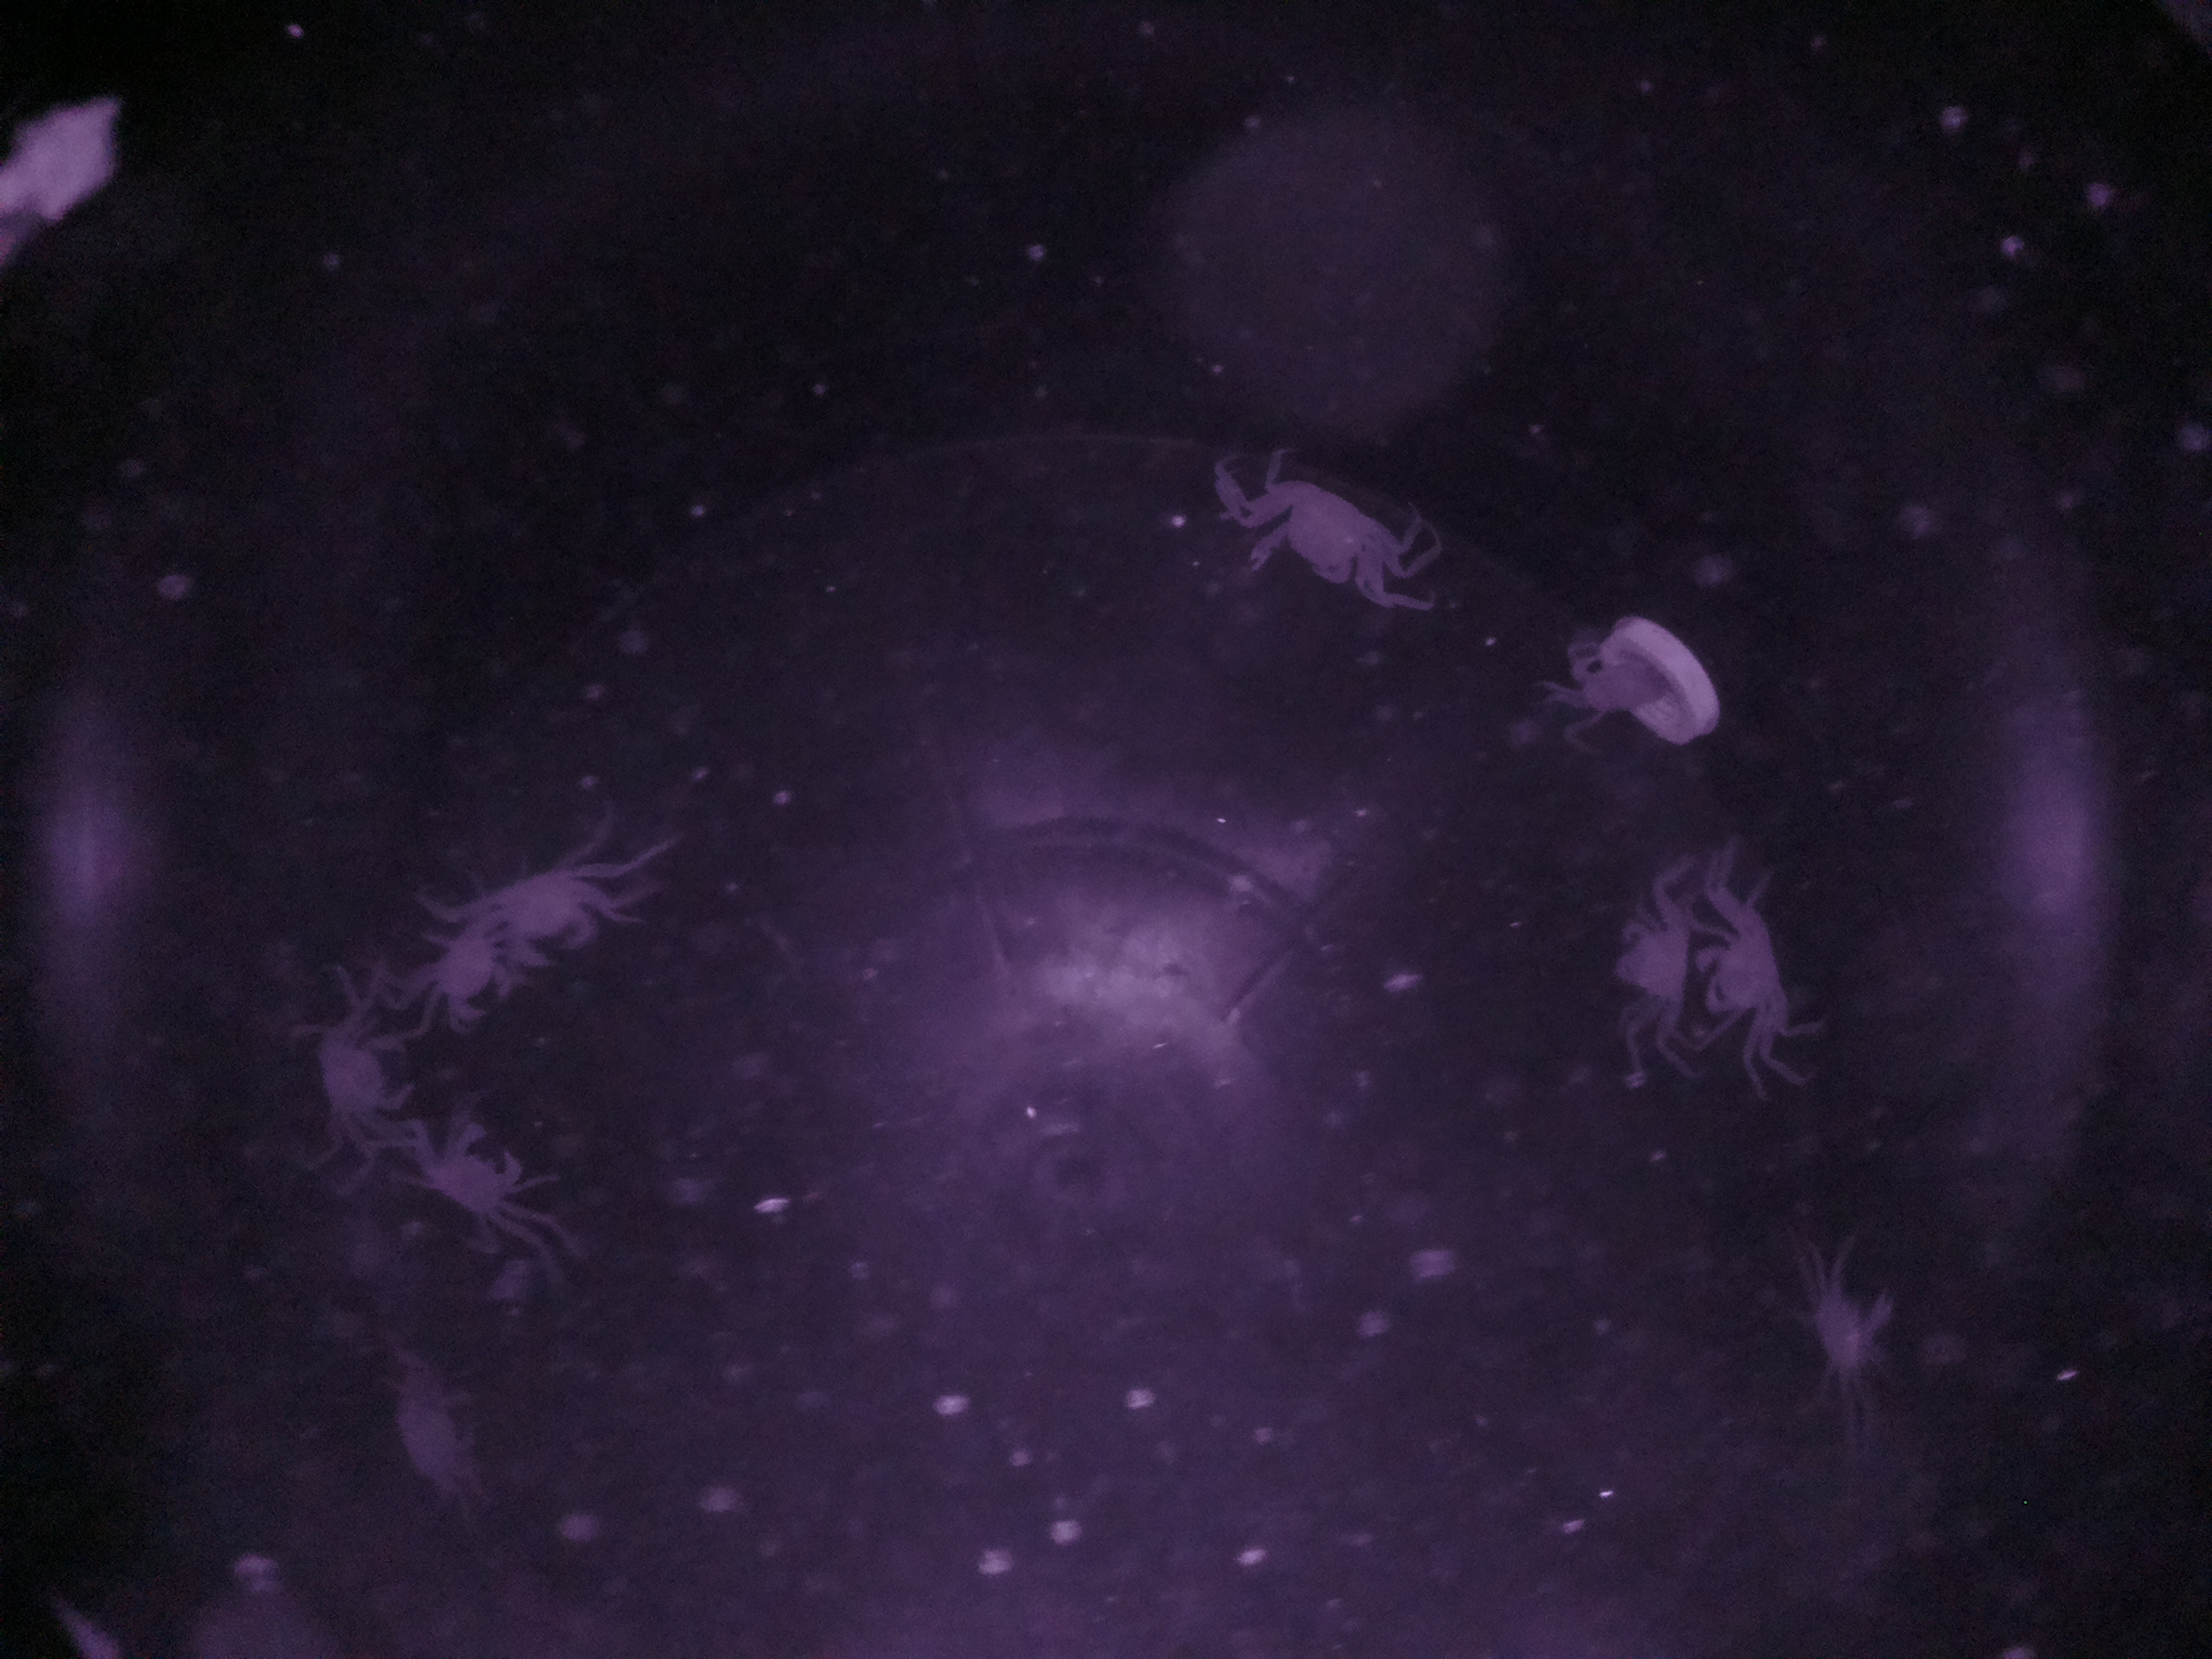Crab: (456, 814, 636, 988), (1231, 462, 1423, 619), (1698, 873, 1820, 1101), (404, 1084, 559, 1262), (1588, 849, 1696, 1098), (273, 995, 415, 1157)
